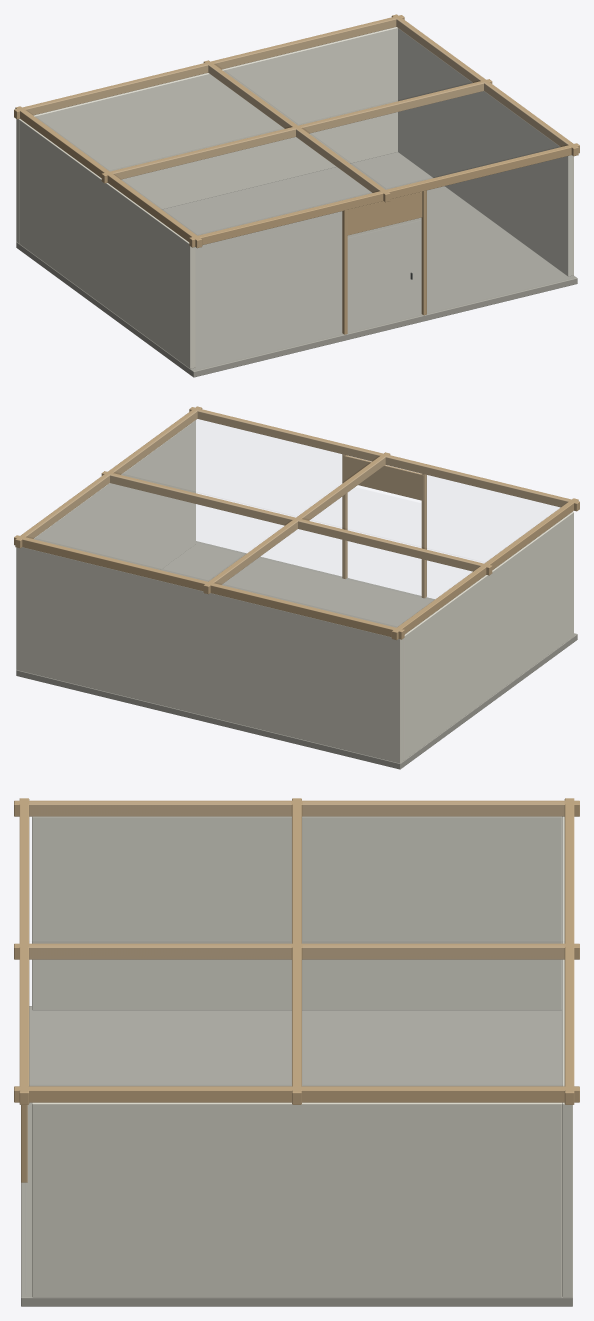
File: bookbinding-and-paper-mill-roofed-bindery-326e8dd0__30545.glb
3 views of the same model, one above another, from view 1: azimuth 30°, elevation 25°; view 2: azimuth 150°, elevation 25°; view 3: azimuth 270°, elevation 25° (orthographic). The views are drawn at different scales.
Parts seen in each view (by area): view 1: roofed-bindery; view 2: roofed-bindery; view 3: roofed-bindery.
Part boxes in pixels (x1,y1,x2,y2): roofed-bindery: [14, 14, 579, 377]; roofed-bindery: [14, 406, 579, 769]; roofed-bindery: [14, 798, 579, 1306].
Size of the model in its own units: 10.1 by 3.48 by 8.2.
